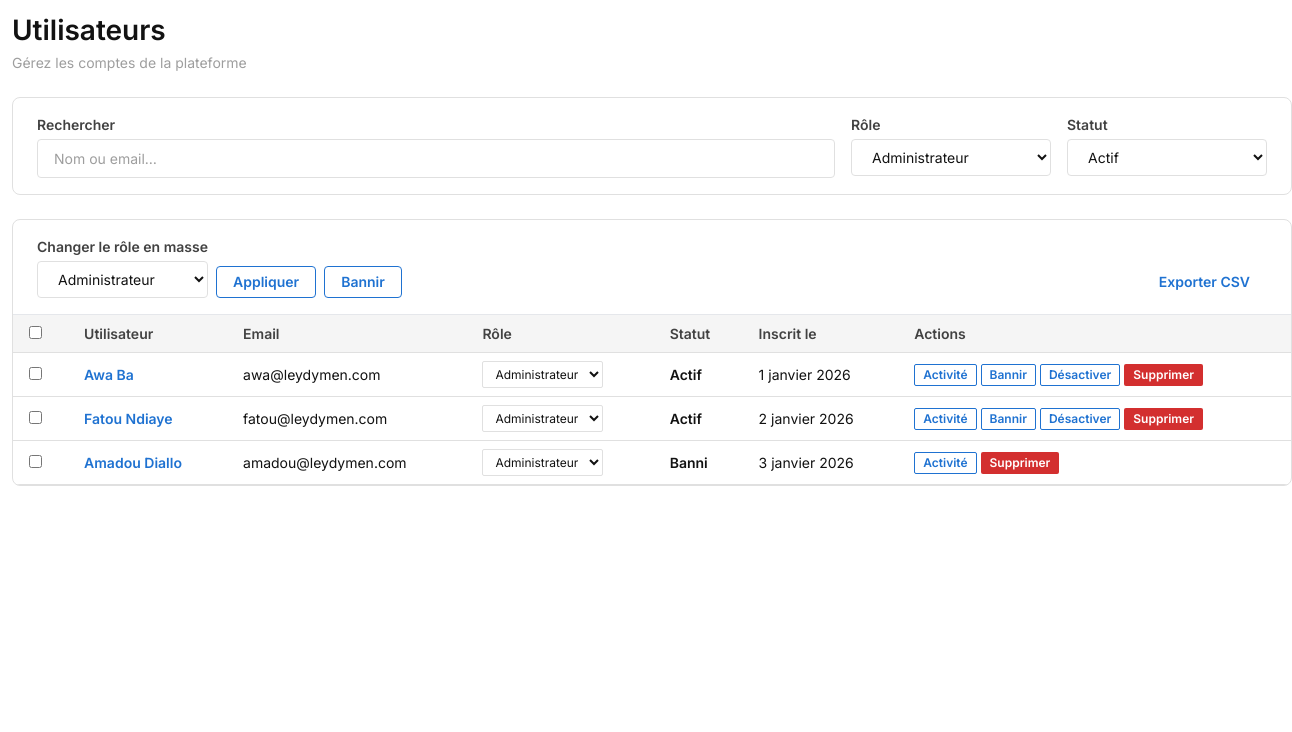
Test: AdminUsersComponent › should change the role of a user
The width and height of the screenshot is (1292, 732).
Select "Instructeur" in the dropdown named "Rôle de Amadou" at (543, 463), box [482,449,603,476]
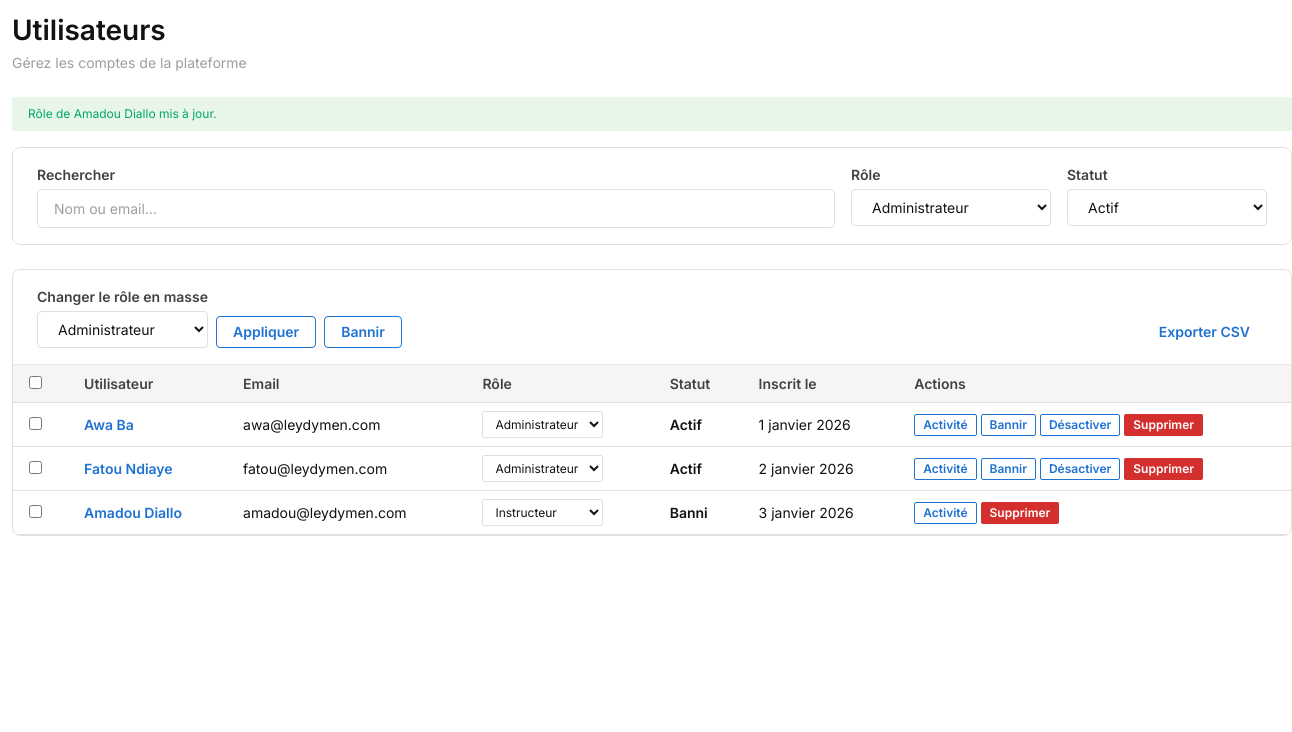
Check: the text "Rôle de Amadou Diallo mis à jour." is shown, box [28,106,217,121]
